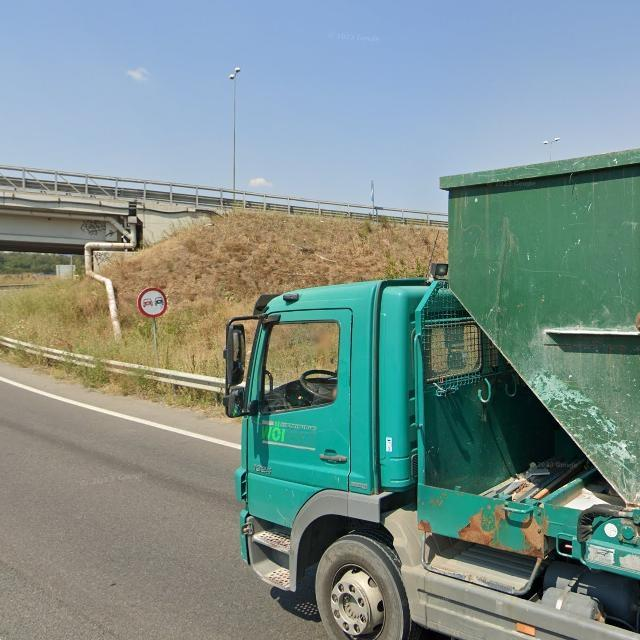forb_overtake: (137, 286, 167, 317)
